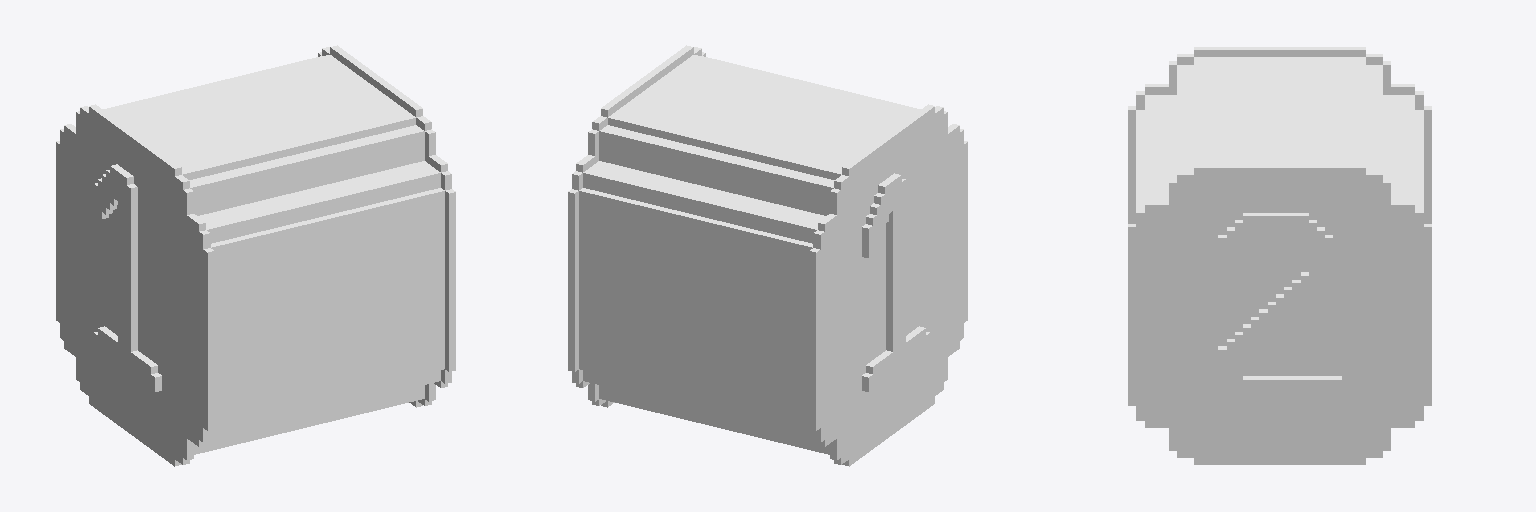
Rendered from biriki.obj.
3 views of the same model, side by side, from view 1: azimuth 30°, elevation 25°; view 2: azimuth 150°, elevation 25°; view 3: azimuth 270°, elevation 25° (orthographic).
Parts seen in each view (by area): view 1: object 1; view 2: object 1; view 3: object 1.
Part boxes in pixels (bbox=[...]): object 1: bbox=[56, 45, 455, 466]; object 1: bbox=[568, 45, 967, 466]; object 1: bbox=[1128, 47, 1431, 464].
Size of the model in its own units: 3.7 by 4 by 3.7.